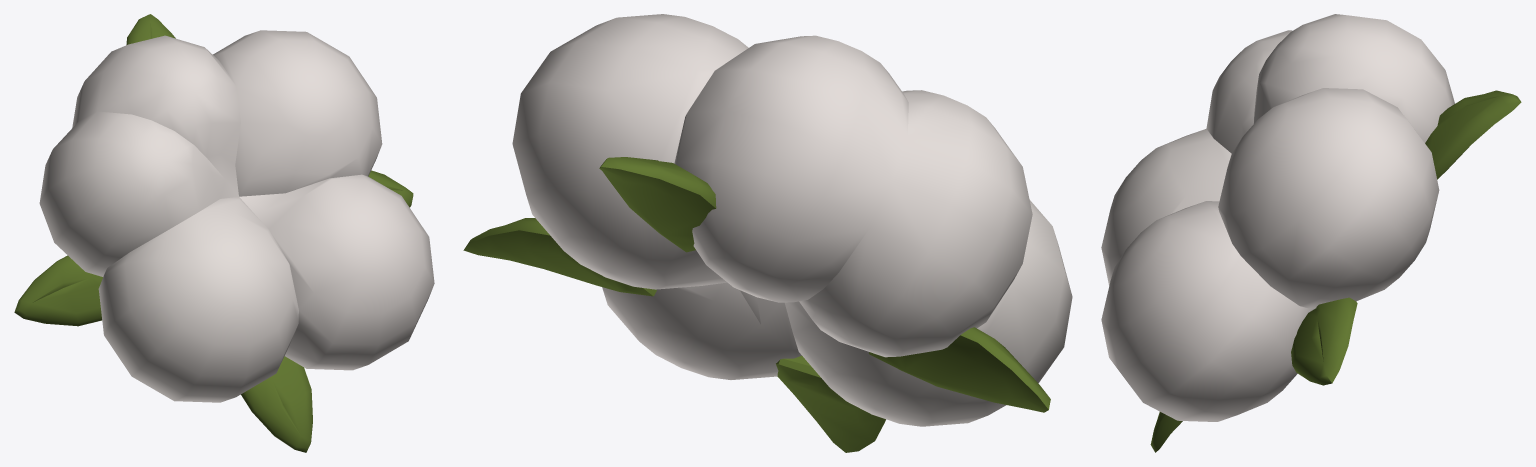
3 views of the same model, side by side, from view 1: azimuth 30°, elevation 25°; view 2: azimuth 150°, elevation 25°; view 3: azimuth 270°, elevation 25° (orthographic). The views are drawn at different scales.
Visible parts, largest first — view 1: model_0.054; view 2: model_0.054; view 3: model_0.054.
Part boxes in pixels (x1=…): model_0.054: x1=14, y1=14, x2=434, y2=452; model_0.054: x1=463, y1=14, x2=1072, y2=452; model_0.054: x1=1101, y1=14, x2=1521, y2=452.
Bounding box in the file's own units: 4.29 × 3.64 × 3.47.
